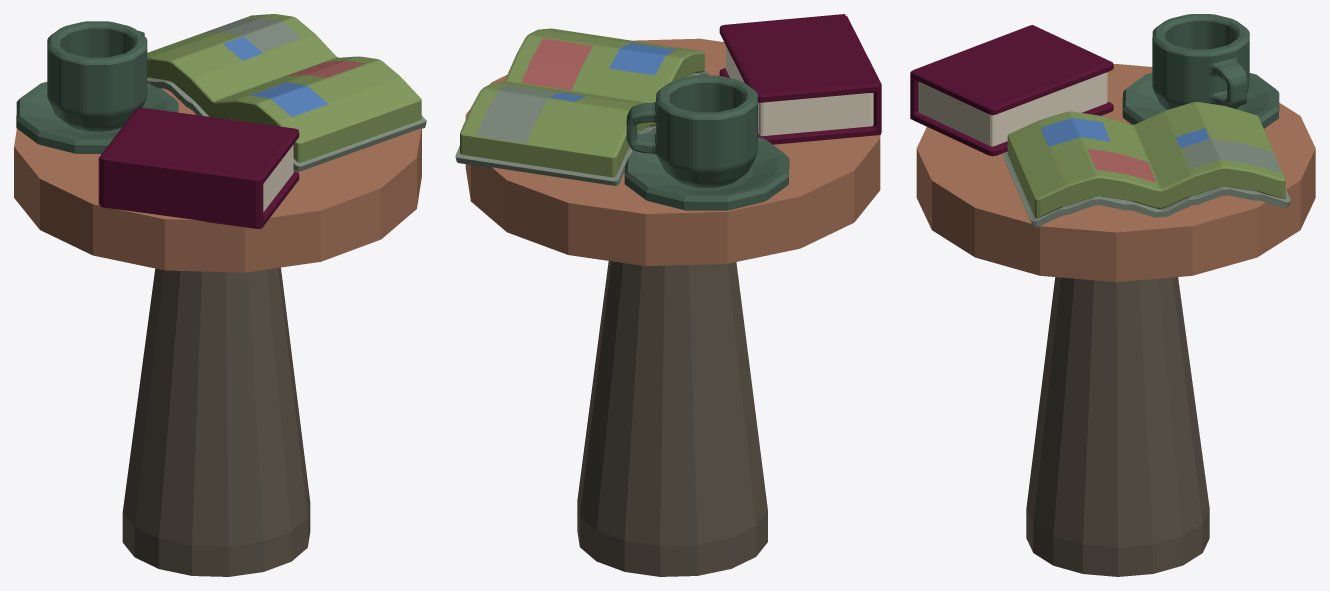
The model's file is Bedroom_SmallTable.fbx.
3 views of the same model, side by side, from view 1: azimuth 30°, elevation 25°; view 2: azimuth 150°, elevation 25°; view 3: azimuth 270°, elevation 25° (orthographic). The views are drawn at different scales.
Visible parts, largest first — view 1: Bedroom_SmallTable.002, Bedroom_SmallTable.001, Bedroom_SmallTable.005, Bedroom_SmallTable.003, Bedroom_SmallTable, Bedroom_SmallTable.007, Bedroom_SmallTable.006, Bedroom_SmallTable.004, Bedroom_SmallTable.008; view 2: Bedroom_SmallTable.002, Bedroom_SmallTable.001, Bedroom_SmallTable, Bedroom_SmallTable.005, Bedroom_SmallTable.003, Bedroom_SmallTable.007, Bedroom_SmallTable.004, Bedroom_SmallTable.008, Bedroom_SmallTable.006; view 3: Bedroom_SmallTable.002, Bedroom_SmallTable.001, Bedroom_SmallTable.005, Bedroom_SmallTable.003, Bedroom_SmallTable, Bedroom_SmallTable.004, Bedroom_SmallTable.007, Bedroom_SmallTable.006, Bedroom_SmallTable.008.
Part boxes in pixels (box(x1,y1,x2,y2)): Bedroom_SmallTable.002: box(122, 267, 310, 576); Bedroom_SmallTable.001: box(14, 88, 421, 272); Bedroom_SmallTable.005: box(147, 14, 421, 162); Bedroom_SmallTable.003: box(98, 107, 299, 228); Bedroom_SmallTable: box(16, 21, 178, 154); Bedroom_SmallTable.007: box(147, 18, 426, 171); Bedroom_SmallTable.006: box(223, 36, 328, 117); Bedroom_SmallTable.004: box(263, 145, 293, 212); Bedroom_SmallTable.008: box(286, 60, 365, 77); Bedroom_SmallTable.002: box(577, 261, 767, 576); Bedroom_SmallTable.001: box(465, 38, 880, 265); Bedroom_SmallTable: box(624, 75, 789, 210); Bedroom_SmallTable.005: box(460, 28, 704, 177); Bedroom_SmallTable.003: box(719, 14, 881, 144); Bedroom_SmallTable.007: box(455, 70, 708, 185); Bedroom_SmallTable.004: box(726, 46, 873, 136); Bedroom_SmallTable.008: box(521, 38, 592, 90); Bedroom_SmallTable.006: box(549, 43, 676, 101); Bedroom_SmallTable.002: box(1026, 277, 1209, 576); Bedroom_SmallTable.001: box(916, 64, 1315, 282); Bedroom_SmallTable.005: box(1007, 102, 1285, 217); Bedroom_SmallTable.003: box(910, 25, 1113, 156); Bedroom_SmallTable: box(1122, 14, 1279, 128); Bedroom_SmallTable.004: box(918, 72, 1107, 146); Bedroom_SmallTable.007: box(1003, 138, 1290, 227); Bedroom_SmallTable.006: box(1040, 118, 1209, 147); Bedroom_SmallTable.008: box(1087, 148, 1156, 182).
Size of the model in its own units: 56.88 by 72.63 by 55.97.
